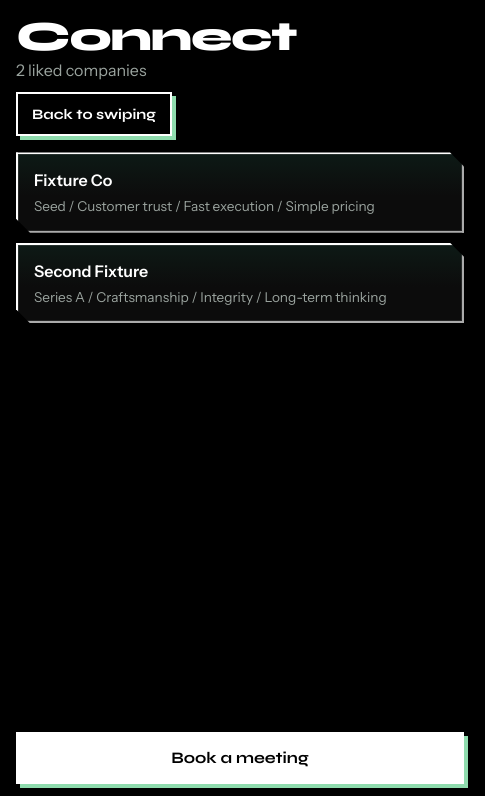
Scenario: Connect › opens the full profile with contact details and returns to the list
What coordinates should you click on to do the following:
click the button "Second Fixture"
I would click on:
 (91, 271)
Its box is [16, 243, 464, 323].
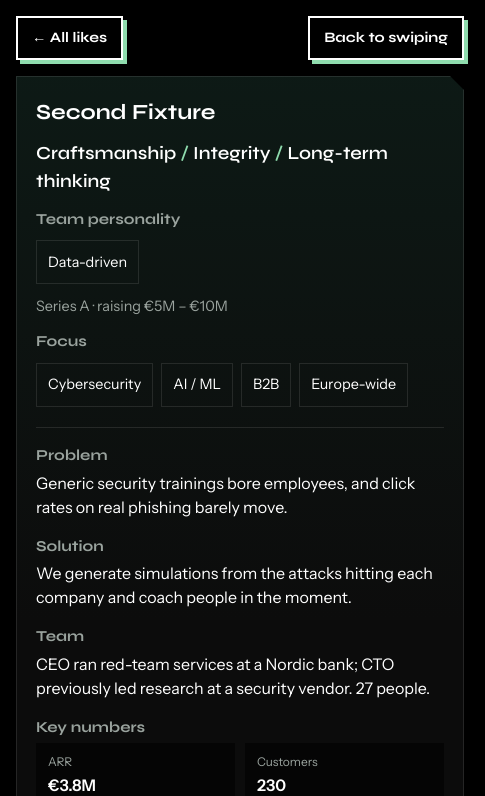
What coordinates should you click on to do the following:
click the button "← All likes"
I would click on:
 (70, 38)
Its box is [16, 16, 123, 60].
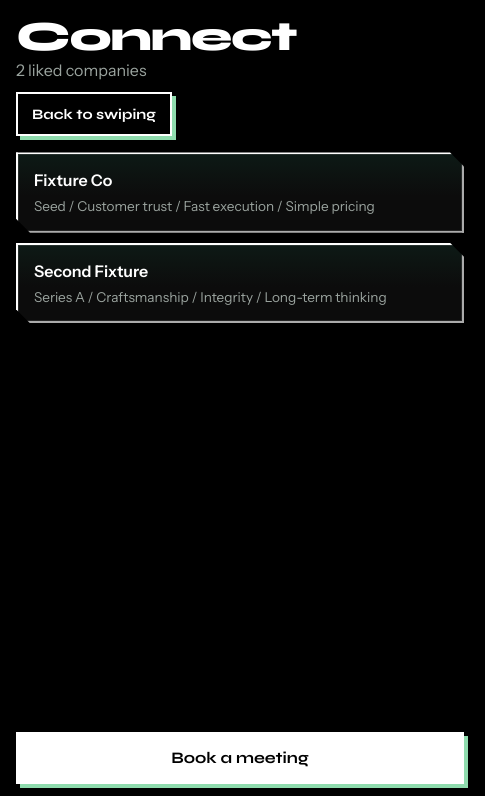
Expected: the text "2 liked companies" is shown, [16, 60, 146, 80]
